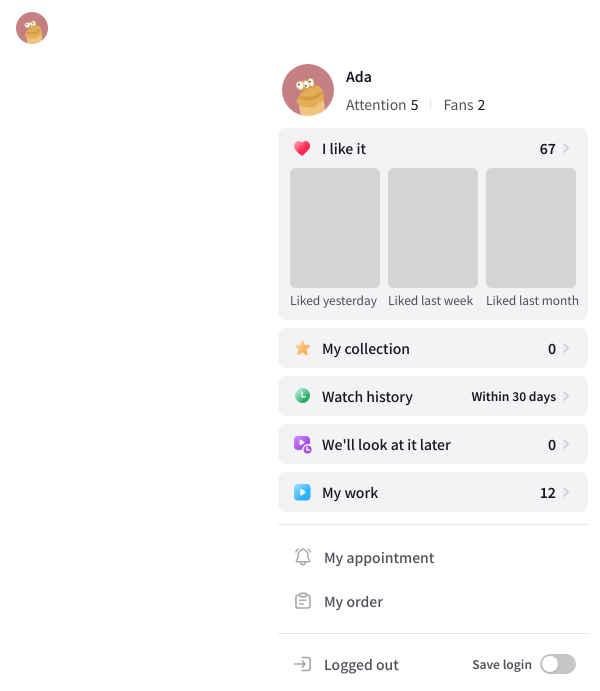
Scenario: account menu previews › hovering "My work" closes the liked preview and brings works up from below
Hover over the button named "Ada".
mouse_move(32, 28)  # box [16,12,48,44]
Expected: the element named "I like it" is shown, [278,168,588,320]
Hover over the button "My work 12".
mouse_move(350, 492)  # box [278,472,588,512]
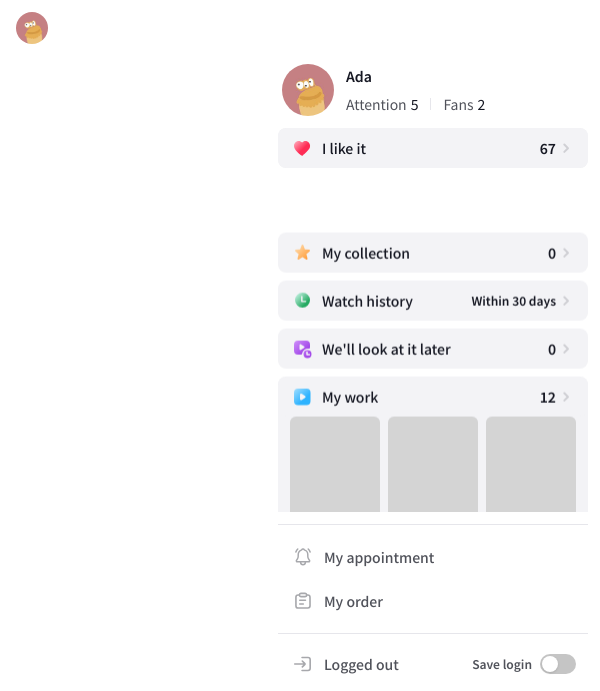
Expected: the number of buttons named "Open post" is 3, [290,387,380,527]; [388,387,478,527]; [486,387,576,527]
Result: the button "My work 12" is expanded at [278,347,588,387]
